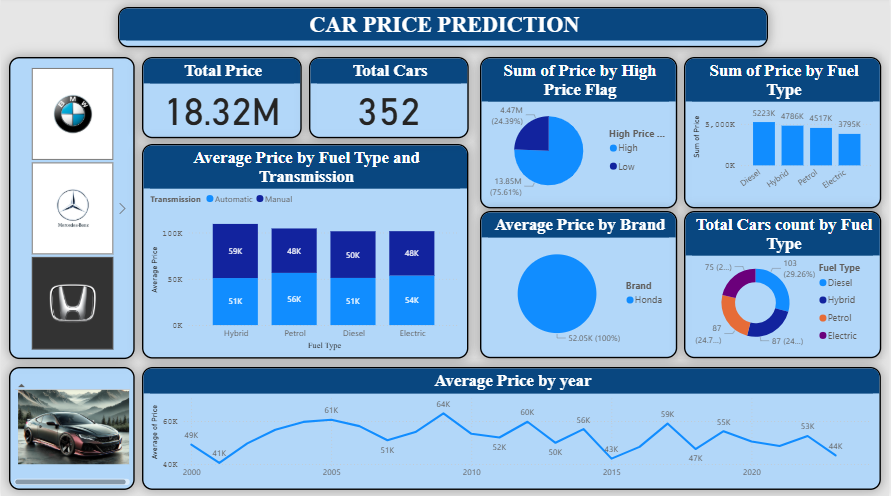

This screenshot's page, from the dashboard's own definition file:
{"tool":"powerbi","page":{"name":"Page 1","canvas":[1280,720],"ordinal":0},"visuals":[{"type":"slicer","fields":{"Values":["Sheet1.Logo.png link"]},"box":[11.7,86.3,181.5,434.6],"z":0},{"type":"card","title":"Total Price","fields":{"Values":["car_price_prediction.Total Sales"]},"box":[203.4,86.3,229.8,117.1],"z":1000},{"type":"pieChart","fields":{"Y":["Sum(car_price_prediction.Price)"],"Category":["car_price_prediction.High Price Flag"]},"box":[689.3,86.3,283.9,218],"z":2000},{"type":"clusteredColumnChart","fields":{"Category":["car_price_prediction.Fuel Type"],"Y":["Sum(car_price_prediction.Price)"]},"box":[983.4,86.3,283.9,218],"z":3000},{"type":"pieChart","fields":{"Y":["car_price_prediction.Average Price"],"Category":["car_price_prediction.Brand"]},"box":[689.3,308.8,283.9,212.2],"z":4000},{"type":"donutChart","fields":{"Category":["car_price_prediction.Fuel Type"],"Y":["car_price_prediction.Total Cars count"]},"box":[983.4,308.8,283.9,212.2],"z":5000},{"type":"columnChart","fields":{"Y":["car_price_prediction.Average Price"],"Category":["car_price_prediction.Fuel Type"],"Series":["car_price_prediction.Transmission"]},"box":[203.4,212.2,469.8,308.8],"z":6000},{"type":"lineChart","title":"Average Price by year","fields":{"Category":["car_price_prediction.Year"],"Y":["Avg(car_price_prediction.Price)"]},"box":[203,532.8,1064.2,177.1],"z":7000},{"type":"card","title":"Total Cars","fields":{"Values":["car_price_prediction.Total Cars count"]},"box":[443.4,86.3,229.8,117.1],"z":8000},{"type":"textbox","title":"CAR PRICE PREDICTION","box":[168.5,14.4,936,57.6],"z":9000},{"type":"tableEx","fields":{"Values":["Sheet1.Image"]},"box":[12,533,181,177],"z":10000}]}

Visuals, with their boxes in screenshot pixels (x1, y1, x2, y2), scaled from the page's 1280x720 canvas onto the 891x496 screenshot:
slicer - Sheet1.Logo.png link: Rect(8, 59, 134, 359)
"Total Price" card: Rect(142, 59, 302, 140)
pieChart - Sum(car_price_prediction.Price) x car_price_prediction.High Price Flag: Rect(480, 59, 677, 210)
clusteredColumnChart - car_price_prediction.Fuel Type x Sum(car_price_prediction.Price): Rect(685, 59, 882, 210)
pieChart - car_price_prediction.Average Price x car_price_prediction.Brand: Rect(480, 213, 677, 359)
donutChart - car_price_prediction.Fuel Type x car_price_prediction.Total Cars count: Rect(685, 213, 882, 359)
columnChart - car_price_prediction.Average Price x car_price_prediction.Fuel Type: Rect(142, 146, 469, 359)
"Average Price by year" lineChart: Rect(141, 367, 882, 489)
"Total Cars" card: Rect(309, 59, 469, 140)
"CAR PRICE PREDICTION" textbox: Rect(117, 10, 769, 50)
tableEx - Sheet1.Image: Rect(8, 367, 134, 489)
